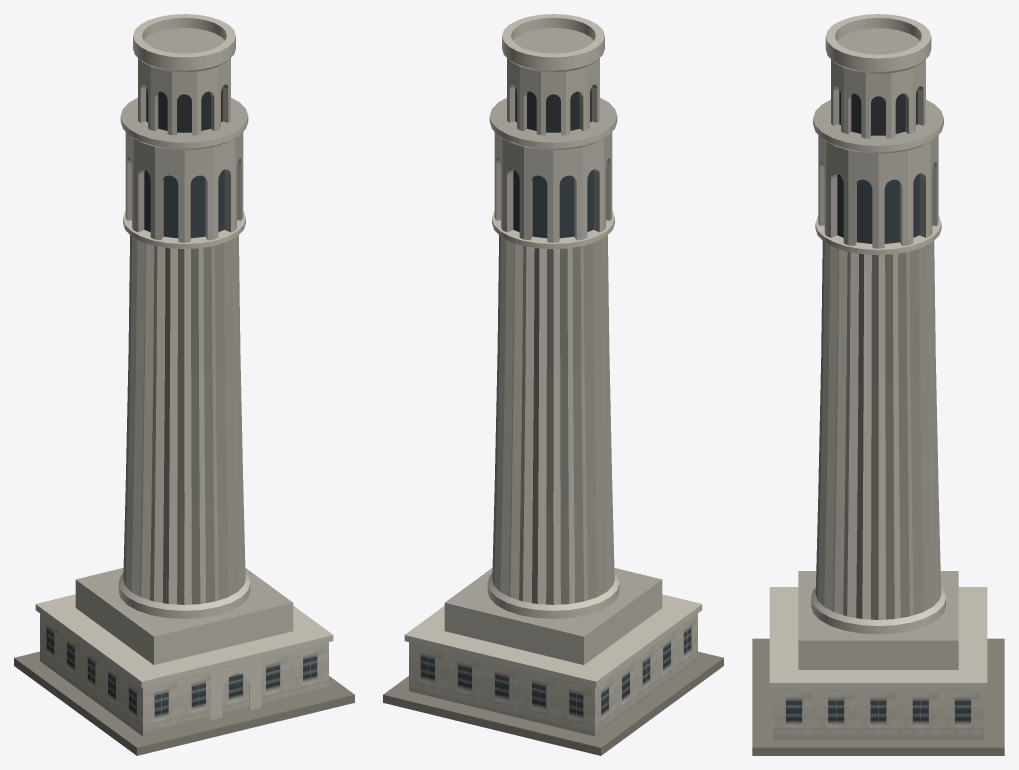
File: coit_tower.glb
The picture shows the model from 3 angles, left to right: view 1: azimuth 30°, elevation 25°; view 2: azimuth 150°, elevation 25°; view 3: azimuth 270°, elevation 25°; orthographic projection. The views are drawn at different scales.
Parts seen in each view (by area): view 1: coit_tower; view 2: coit_tower; view 3: coit_tower.
Boxes of the visible parts, x1=… form: coit_tower: x1=14, y1=14, x2=354, y2=755; coit_tower: x1=383, y1=14, x2=723, y2=755; coit_tower: x1=752, y1=14, x2=1004, y2=755.
Size of the model in its own units: 22.5 by 64 by 22.
Materials: 2 (2 with a texture image).
